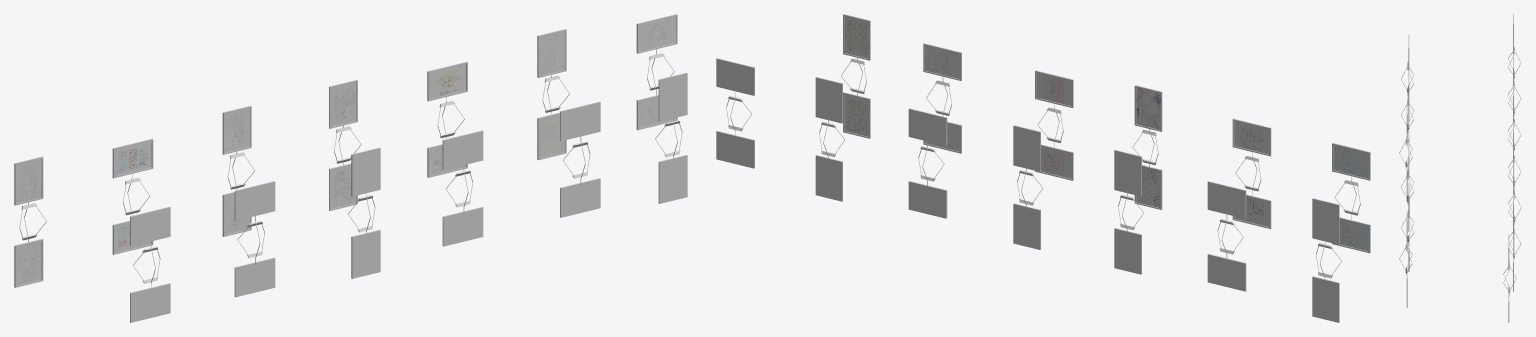
Rendered from ramovi2.obj.
3 renders of one model, left to right at view 1: azimuth 30°, elevation 25°; view 2: azimuth 150°, elevation 25°; view 3: azimuth 270°, elevation 25°, orthographic. The views are drawn at different scales.
Visible parts, largest first — view 1: Union.081_ID641, Union.102_ID812, Union.088_ID698, Union.095_ID755, Union.048_ID368, Union.042_ID325, Union.108_ID856, Union.114_ID899, Union.063_ID488, Union.056_ID431, Union.013_ID97, Union.022_ID166 (+12 smaller); view 2: Union.052_ID407, Union.059_ID464, Union.066_ID528, Union.023_ID180, Union.032_ID249, Union.011_ID85, Union.014_ID111, Union.020_ID154, Union.029_ID223, Union.038_ID292, Union.005_ID42, Union.050_ID380 (+14 smaller); view 3: Union.088_ID698, Union.066_ID528, Union.102_ID812, Union.095_ID755, Union.081_ID641, Union.059_ID464.
Part boxes in pixels (x1,y1,x2,y2): Union.081_ID641: (442, 130, 483, 246); Union.102_ID812: (234, 181, 275, 297); Union.088_ID698: (560, 101, 600, 217); Union.095_ID755: (130, 206, 170, 322); Union.048_ID368: (351, 147, 380, 196); Union.042_ID325: (351, 230, 380, 278); Union.108_ID856: (658, 155, 687, 203); Union.114_ID899: (658, 72, 687, 121); Union.063_ID488: (429, 64, 466, 99); Union.056_ID431: (114, 141, 151, 176); Union.013_ID97: (539, 31, 564, 75); Union.022_ID166: (224, 108, 249, 152); Union.052_ID407: (1207, 181, 1246, 291); Union.059_ID464: (908, 108, 947, 218); Union.066_ID528: (716, 58, 754, 168); Union.023_ID180: (1312, 276, 1339, 322); Union.032_ID249: (1013, 203, 1040, 249); Union.011_ID85: (815, 77, 842, 123); Union.014_ID111: (1114, 228, 1141, 274); Union.020_ID154: (1114, 150, 1141, 196); Union.029_ID223: (1312, 198, 1339, 244); Union.038_ID292: (1013, 125, 1040, 171); Union.005_ID42: (815, 155, 842, 201); Union.050_ID380: (1136, 87, 1160, 129); Union.088_ID698: (1401, 183, 1409, 271); Union.066_ID528: (1508, 234, 1516, 322); Union.102_ID812: (1401, 70, 1409, 142); Union.095_ID755: (1401, 34, 1409, 121); Union.081_ID641: (1401, 142, 1409, 231); Union.059_ID464: (1513, 163, 1521, 250).
Bounding box in the file's own units: 48.66 × 8.75 × 11.05.
27 materials, 26 textured.
